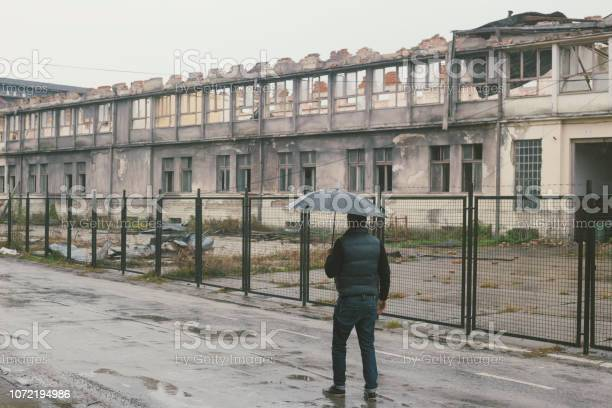person: (322, 213, 391, 400)
